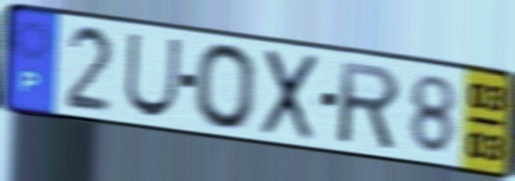2: (62, 22, 117, 119)
8: (405, 73, 461, 156)
O: (192, 40, 260, 133)
R: (337, 58, 404, 154)
U: (121, 29, 185, 120)
X: (257, 46, 322, 144)
